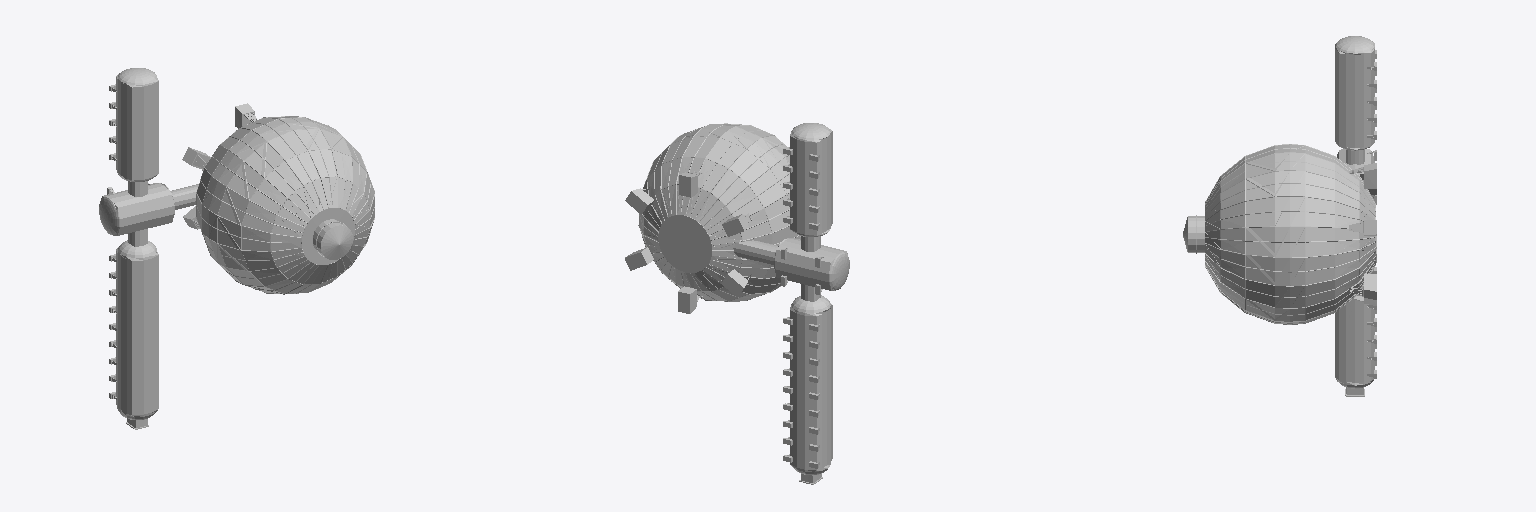
Rendered from 1929-Cunningham-Watertight.obj.
3 views of the same model, side by side, from view 1: azimuth 30°, elevation 25°; view 2: azimuth 150°, elevation 25°; view 3: azimuth 270°, elevation 25° (orthographic).
Parts seen in each view (by area): view 1: cunningham; view 2: cunningham; view 3: cunningham.
Boxes of the visible parts, x1=… form: cunningham: x1=99, y1=68, x2=374, y2=429; cunningham: x1=625, y1=123, x2=849, y2=484; cunningham: x1=1183, y1=36, x2=1376, y2=396.
Size of the model in its own units: 1073 by 1608 by 804.